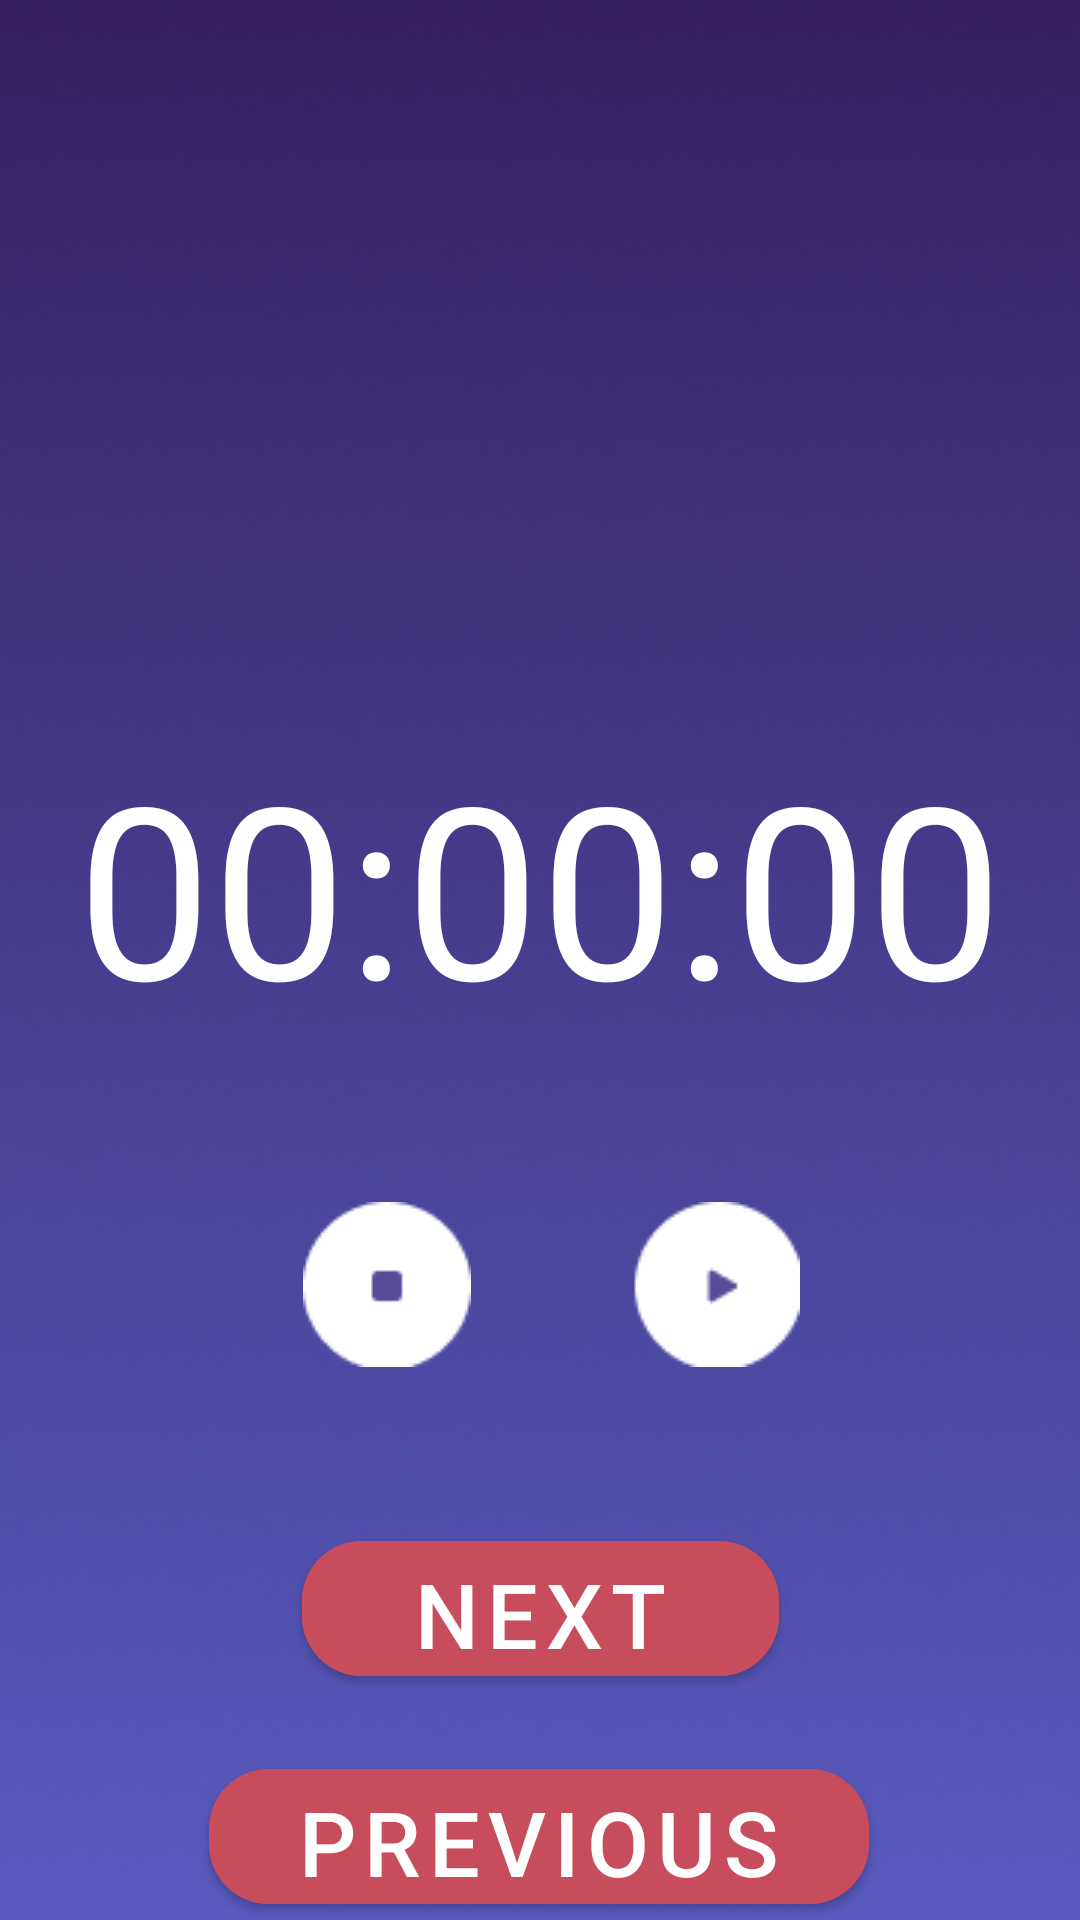

Screen size 1080px×1920px. Icon name, then its box in pixels as (x1, y1, x2, y2):
start: (634, 1202, 800, 1367)
stop: (303, 1202, 471, 1367)
